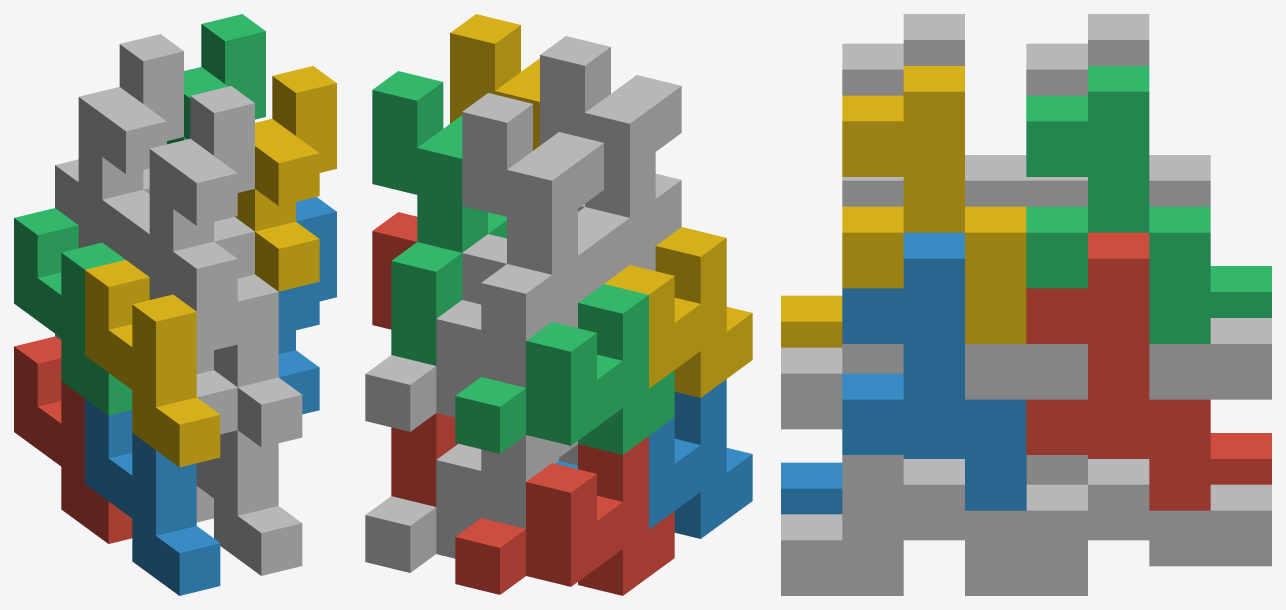
Rendered from tiling.obj.
The picture shows the model from 3 angles, left to right: view 1: azimuth 30°, elevation 25°; view 2: azimuth 150°, elevation 25°; view 3: azimuth 270°, elevation 25°; orthographic projection. The views are drawn at different scales.
Parts seen in each view (by area): view 1: copy_2_domain_4, copy_1_domain_4, copy_2_domain_3, copy_2_domain_8, copy_1_domain_2, copy_1_domain_3, copy_1_domain_1, copy_1_domain_6, copy_1_domain_8, copy_2_domain_6, copy_2_domain_2, copy_2_domain_7 (+2 smaller); view 2: copy_2_domain_3, copy_1_domain_3, copy_1_domain_1, copy_2_domain_7, copy_2_domain_4, copy_1_domain_4, copy_1_domain_2, copy_1_domain_7, copy_1_domain_5, copy_2_domain_5, copy_2_domain_1, copy_2_domain_8 (+1 smaller); view 3: copy_2_domain_6, copy_2_domain_7, copy_2_domain_8, copy_2_domain_5, copy_1_domain_6, copy_1_domain_5, copy_1_domain_8, copy_2_domain_3, copy_2_domain_4, copy_1_domain_7, copy_1_domain_2, copy_1_domain_1 (+2 smaller).
Part boxes in pixels (left/top/right/bottom): copy_2_domain_4: left=126, top=86, right=254, bottom=311; copy_1_domain_4: left=85, top=260, right=220, bottom=467; copy_2_domain_3: left=55, top=34, right=183, bottom=259; copy_2_domain_8: left=235, top=66, right=336, bottom=291; copy_1_domain_2: left=85, top=398, right=220, bottom=595; copy_1_domain_3: left=14, top=208, right=132, bottom=415; copy_1_domain_1: left=14, top=336, right=132, bottom=543; copy_1_domain_6: left=196, top=430, right=302, bottom=575; copy_1_domain_8: left=214, top=274, right=302, bottom=447; copy_2_domain_6: left=278, top=197, right=336, bottom=414; copy_2_domain_2: left=149, top=217, right=254, bottom=434; copy_2_domain_7: left=167, top=14, right=265, bottom=144; copy_2_domain_3: left=462, top=93, right=603, bottom=387; copy_1_domain_3: left=455, top=284, right=674, bottom=454; copy_1_domain_1: left=455, top=436, right=674, bottom=595; copy_2_domain_7: left=372, top=71, right=506, bottom=365; copy_2_domain_4: left=540, top=36, right=681, bottom=283; copy_1_domain_4: left=604, top=227, right=752, bottom=397; copy_1_domain_2: left=555, top=379, right=752, bottom=538; copy_1_domain_7: left=365, top=300, right=481, bottom=431; copy_1_domain_5: left=365, top=443, right=558, bottom=572; copy_2_domain_5: left=372, top=212, right=457, bottom=506; copy_2_domain_1: left=462, top=234, right=577, bottom=528; copy_2_domain_8: left=450, top=14, right=539, bottom=150; copy_2_domain_6: left=842, top=232, right=1026, bottom=510; copy_2_domain_7: left=1026, top=66, right=1210, bottom=343; copy_2_domain_8: left=842, top=66, right=1026, bottom=343; copy_2_domain_5: left=1026, top=232, right=1210, bottom=510; copy_1_domain_6: left=781, top=455, right=1087, bottom=595; copy_1_domain_5: left=965, top=455, right=1271, bottom=595; copy_1_domain_8: left=781, top=344, right=1087, bottom=429; copy_2_domain_3: left=1026, top=14, right=1210, bottom=206; copy_2_domain_4: left=842, top=14, right=1026, bottom=206; copy_1_domain_7: left=1149, top=318, right=1271, bottom=399; copy_1_domain_2: left=781, top=455, right=964, bottom=514; copy_1_domain_1: left=1088, top=433, right=1271, bottom=484.
Size of the model in its own units: 5 by 10 by 8.
